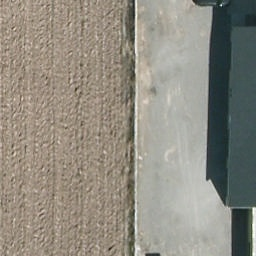car: (195, 0, 231, 8)
